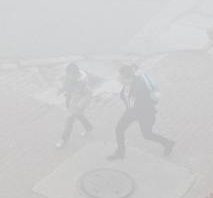person: (104, 62, 178, 164), (53, 60, 96, 149)
